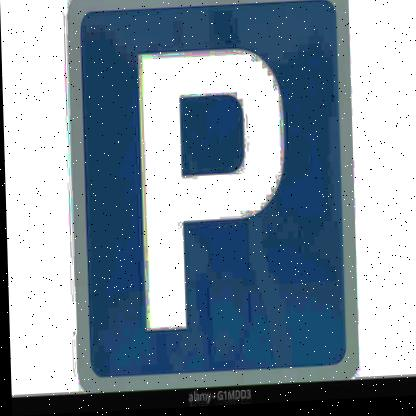Parking: (72, 1, 350, 389)
